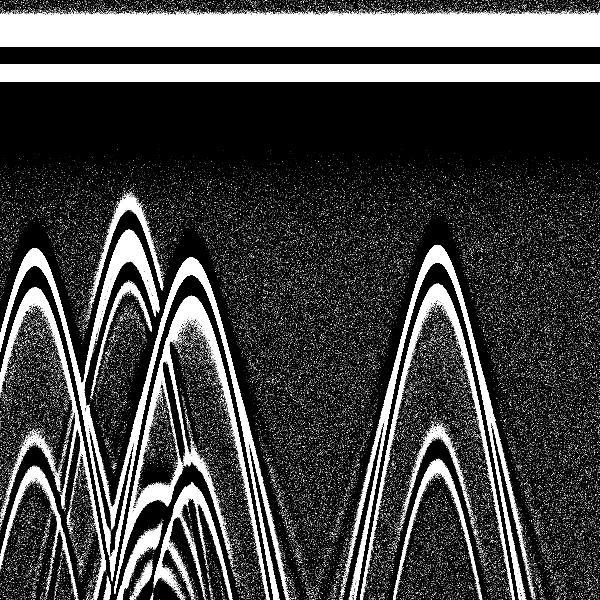pipe: (147, 6, 238, 339), (397, 5, 478, 320), (1, 5, 76, 328), (87, 3, 165, 311)
